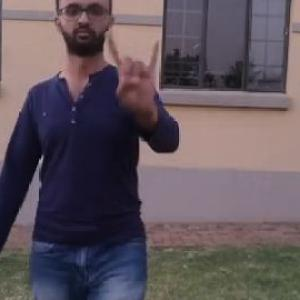takeoff-hand: (104, 24, 168, 120)
